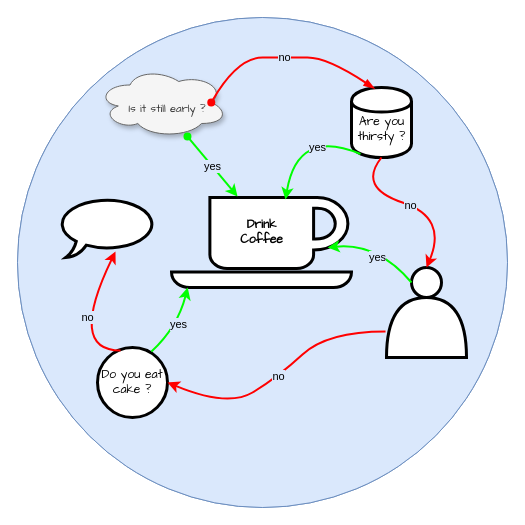
Some shapes in this 525 by 525 pixel diagram are drawn without their labels. Here are the shapes that lost their labels. From the top down, the centre of each, then its label:
At (x=107, y=227): "That's to bad !".
At (x=426, y=327): "Do you have visitor".
